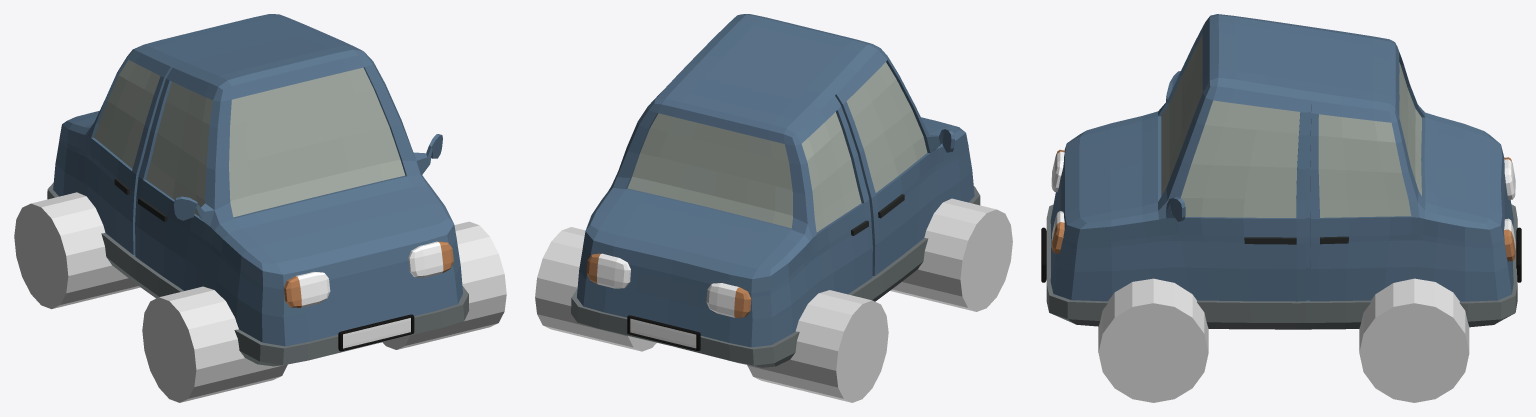
File: car2-2.fbx
3 views of the same model, side by side, from view 1: azimuth 30°, elevation 25°; view 2: azimuth 150°, elevation 25°; view 3: azimuth 270°, elevation 25° (orthographic). The views are drawn at different scales.
Visible parts, largest first — view 1: Cube, Cylinder.002, Cylinder.003, Cylinder, Cube.001, Cube.004, Cube.003; view 2: Cube, Cylinder.003, Cylinder.002, Cylinder.001, Cube.002, Cube.006, Cube.005; view 3: Cube, Cylinder, Cylinder.001, Cube.003.
Boxes of the visible parts, left/top/right/bottom form: Cube: left=47, top=14, right=469, bottom=366; Cylinder.002: left=142, top=286, right=287, bottom=402; Cylinder.003: left=14, top=192, right=140, bottom=309; Cylinder: left=383, top=221, right=506, bottom=349; Cube.001: left=338, top=314, right=414, bottom=351; Cube.004: left=283, top=272, right=330, bottom=307; Cube.003: left=408, top=241, right=453, bottom=277; Cube: left=571, top=14, right=980, bottom=367; Cylinder.003: left=747, top=290, right=888, bottom=402; Cylinder.002: left=890, top=198, right=1012, bottom=311; Cylinder.001: left=535, top=227, right=656, bottom=351; Cube.002: left=627, top=315, right=700, bottom=350; Cube.006: left=706, top=283, right=751, bottom=317; Cube.005: left=586, top=253, right=630, bottom=288; Cube: left=1046, top=14, right=1517, bottom=329; Cylinder: left=1098, top=278, right=1208, bottom=402; Cylinder.001: left=1359, top=278, right=1469, bottom=402; Cube.003: left=1051, top=211, right=1064, bottom=253.
Bounding box in the file's own units: 559 × 472 × 737.
